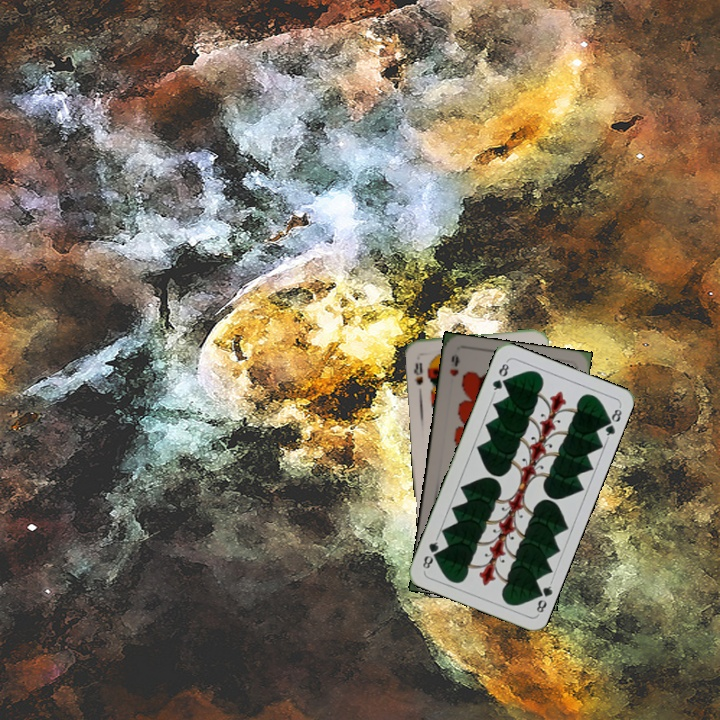G8: (531, 578, 555, 617), (488, 357, 511, 396)
H9: (446, 350, 462, 378)
S8: (409, 358, 426, 387)
